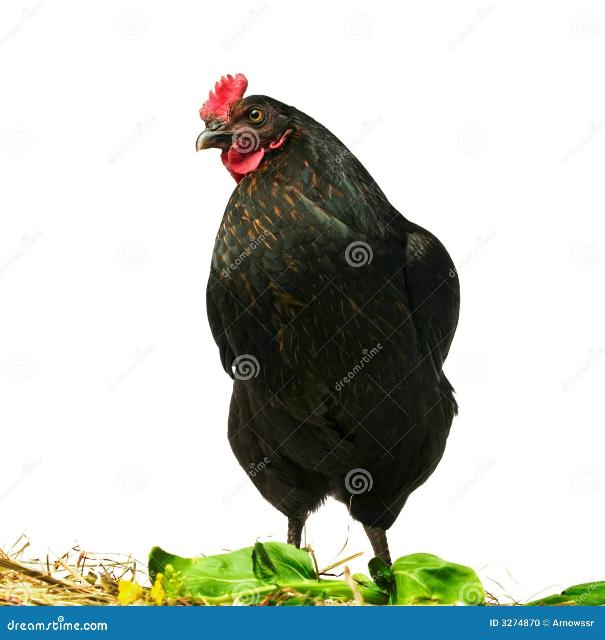Chicken: (194, 71, 459, 586)
